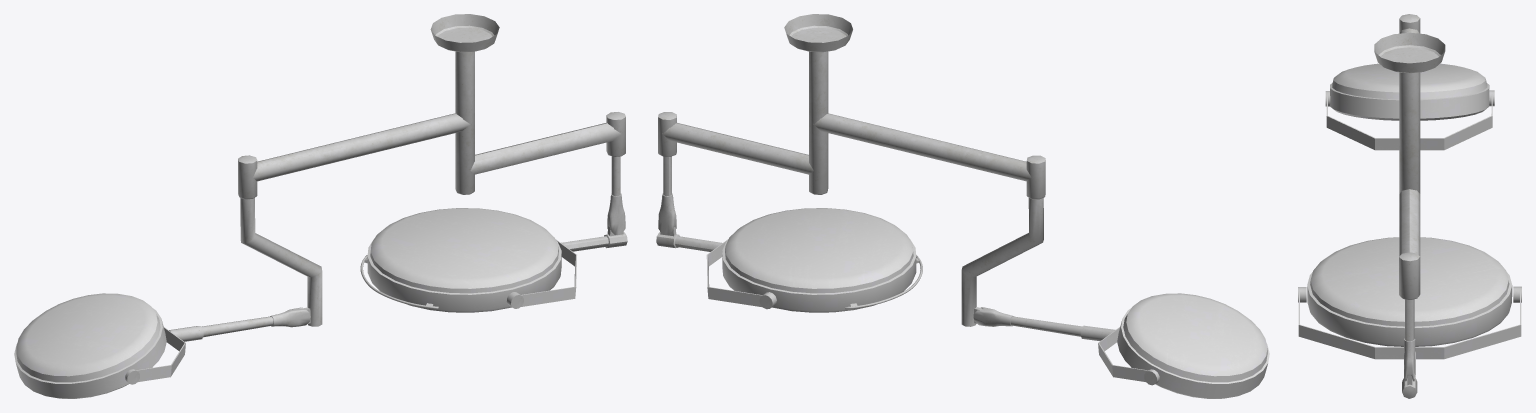
Rendered from SM_无影灯002.fbx.
3 renders of one model, left to right at view 1: azimuth 30°, elevation 25°; view 2: azimuth 150°, elevation 25°; view 3: azimuth 270°, elevation 25°, orthographic. The views are drawn at different scales.
Parts seen in each view (by area): view 1: SM_无影灯002; view 2: SM_无影灯002; view 3: SM_无影灯002.
Part boxes in pixels (left/top/right/bottom): SM_无影灯002: left=14, top=14, right=627, bottom=398; SM_无影灯002: left=656, top=14, right=1269, bottom=398; SM_无影灯002: left=1298, top=14, right=1521, bottom=398.
Bounding box in the file's own units: 2700 × 1112 × 829.
